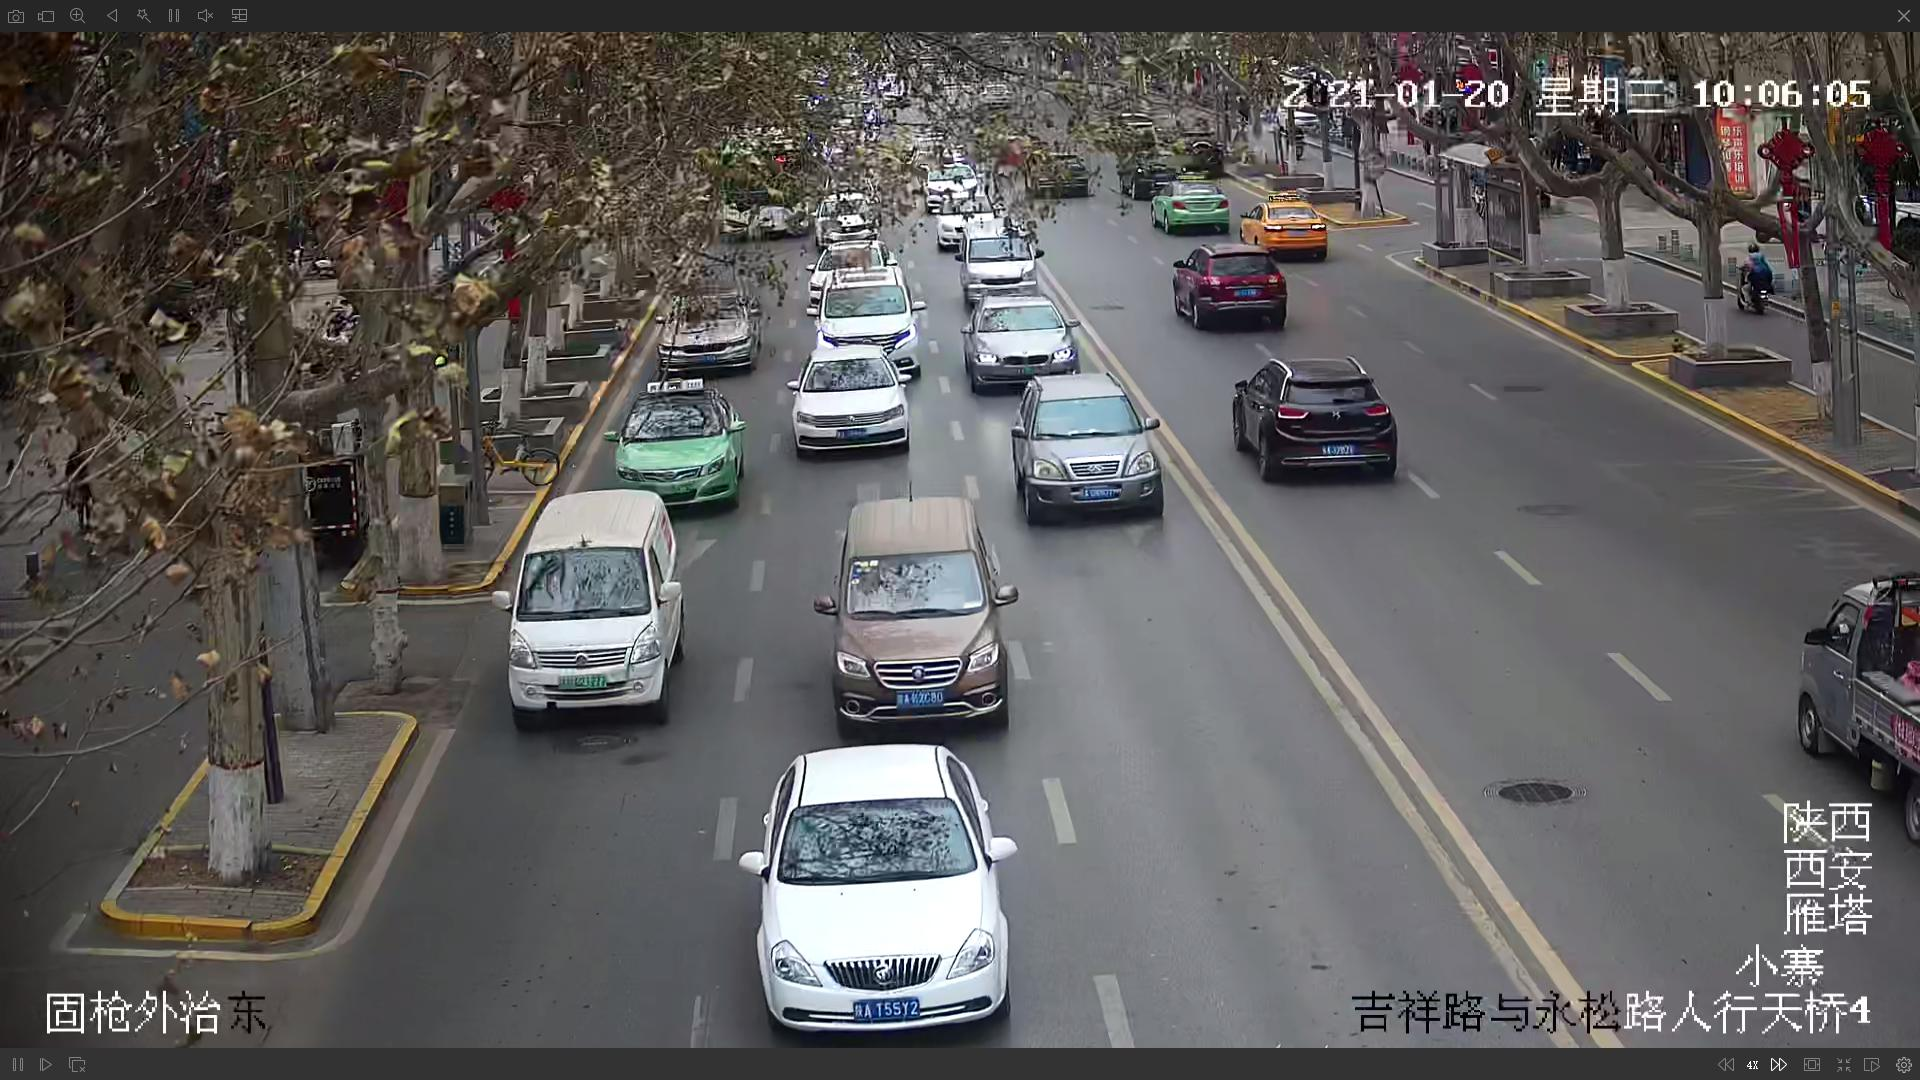brown: (822, 496, 1007, 724)
white: (742, 741, 1017, 1021), (498, 495, 675, 719)
